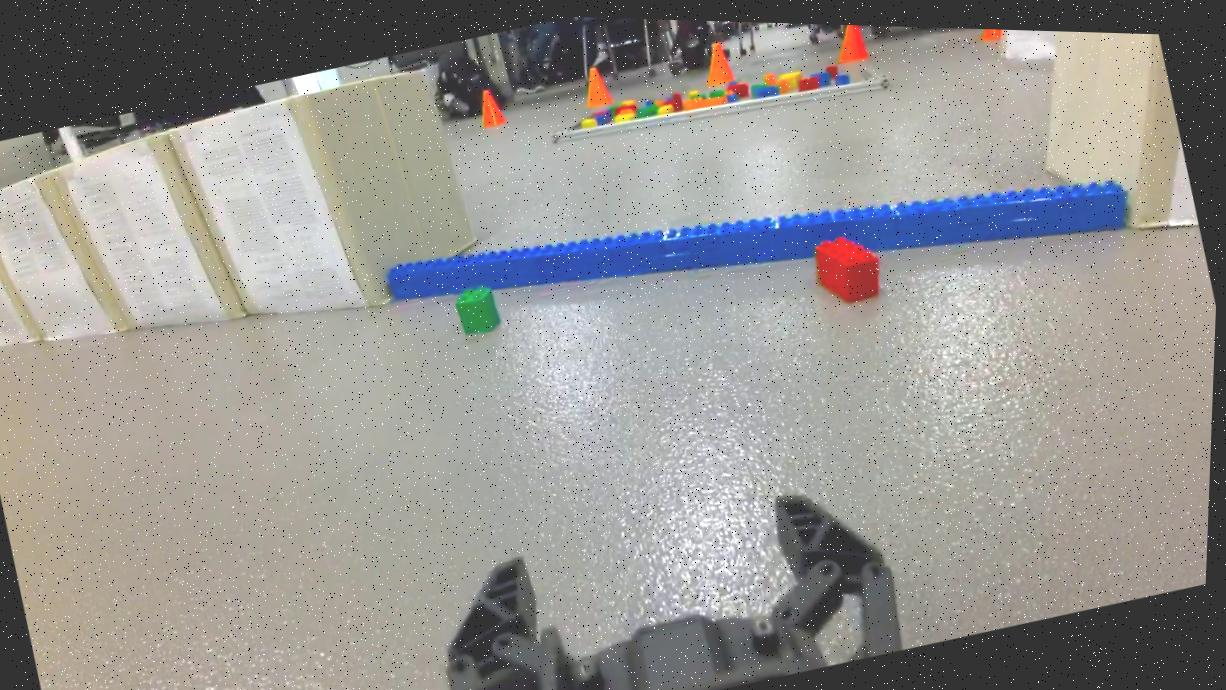2x2lego: (451, 280, 507, 341)
2x4lego: (808, 221, 893, 307)
